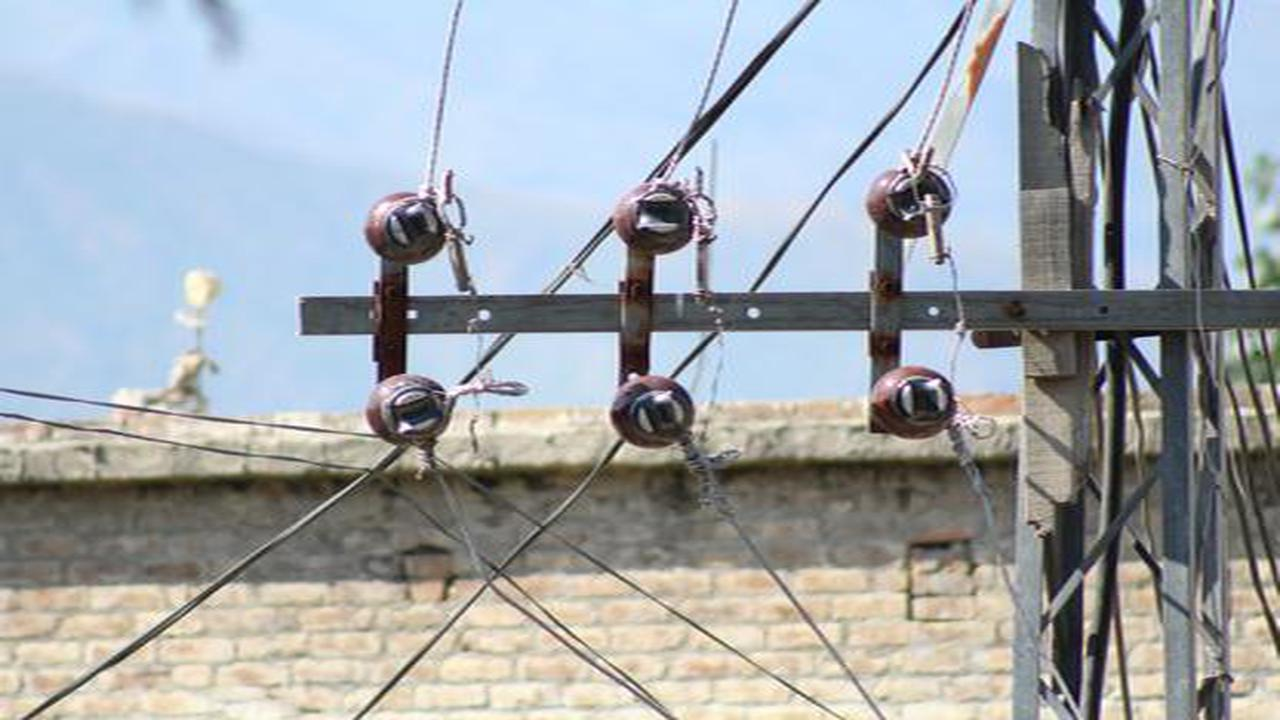insulator_pin: (605, 171, 706, 256), (868, 357, 964, 445), (603, 367, 701, 452), (360, 372, 457, 456), (357, 183, 451, 267), (861, 161, 957, 243)
